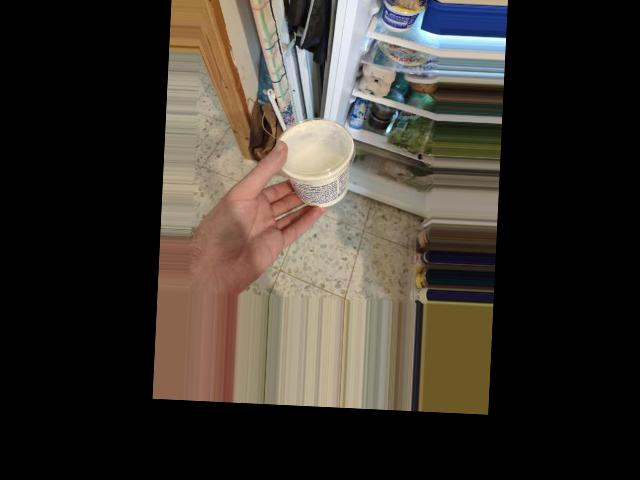cotage: (276, 122, 350, 209)
